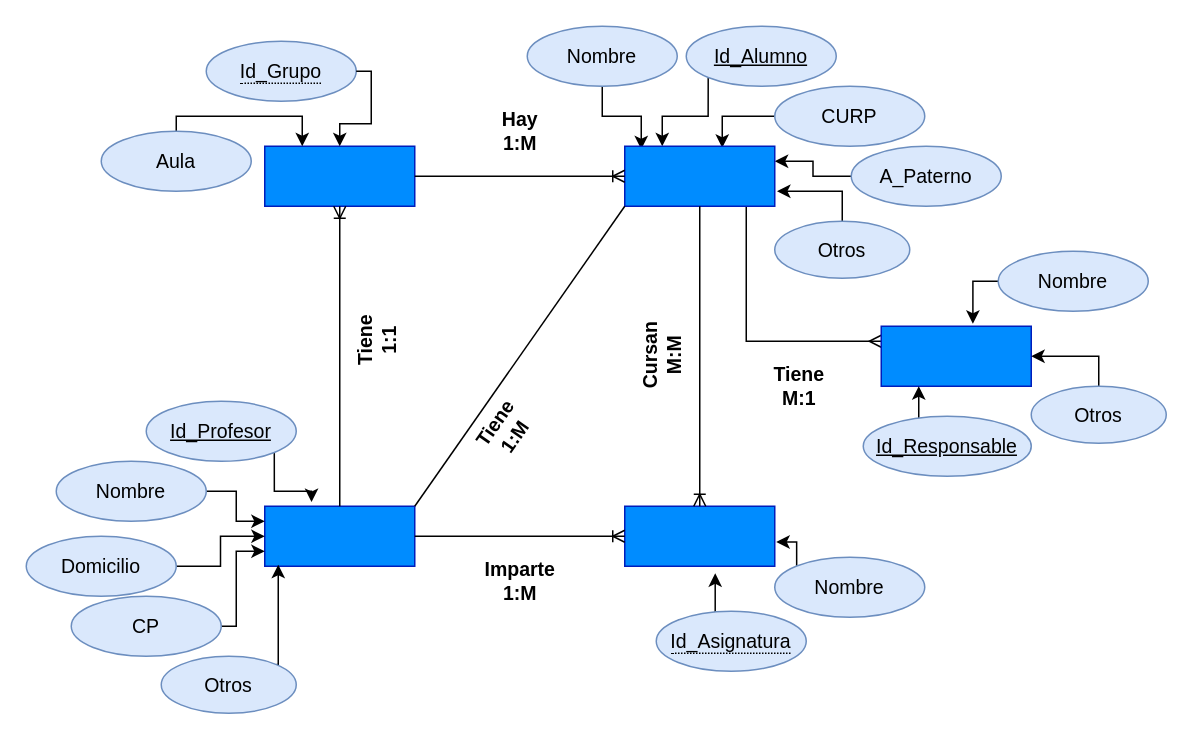
The diagram is 1193 pixels wide and 740 high, and some of its shapes have lost their labels. The shapes that lost their labels are listed below. From the top down, each one's centre as x and y in pixels, then its label:
the point at 339,175: Grupo
the point at 699,175: Alumno
the point at 955,355: Responsable
the point at 339,535: Profesor
the point at 699,535: Asignatura
